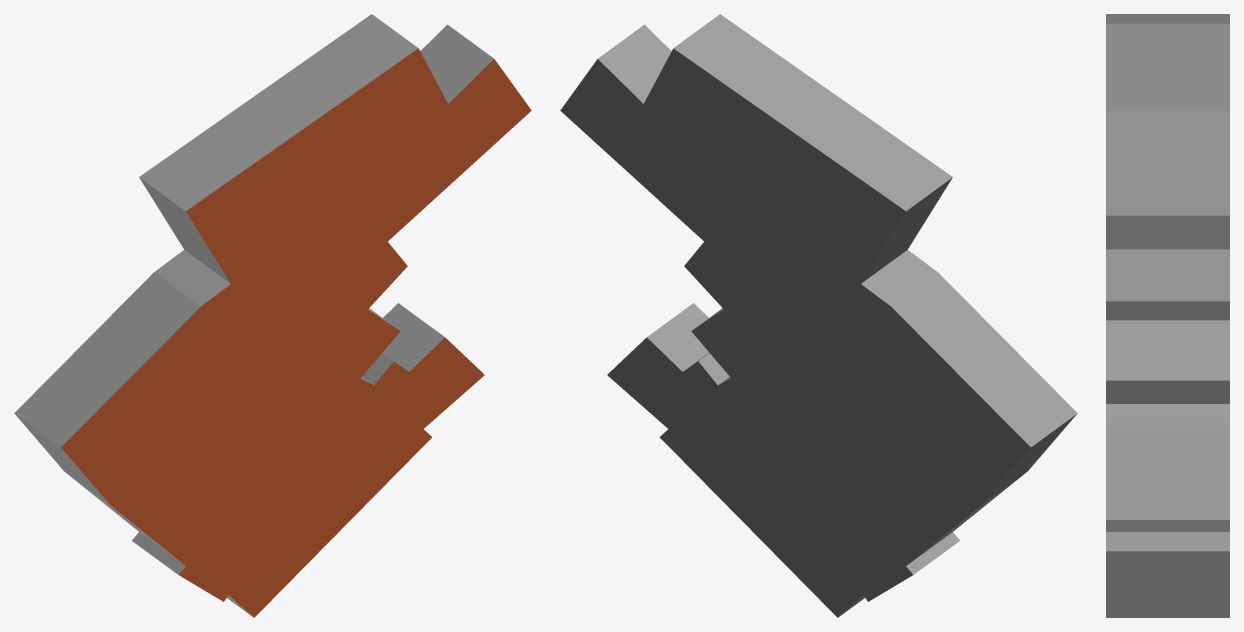
File: construction_4199_assumed_A_Casa_h6m.obj
3 renders of one model, left to right at view 1: azimuth 30°, elevation 25°; view 2: azimuth 150°, elevation 25°; view 3: azimuth 270°, elevation 25°, orthographic. The views are drawn at different scales.
Parts seen in each view (by area): view 1: construction_4199_assumed_A_Casa; view 2: construction_4199_assumed_A_Casa; view 3: construction_4199_assumed_A_Casa.
Boxes of the visible parts, x1,y1,x2,y2 form: construction_4199_assumed_A_Casa: (14, 14, 531, 617); construction_4199_assumed_A_Casa: (560, 14, 1077, 617); construction_4199_assumed_A_Casa: (1106, 14, 1229, 617).
Bounding box in the file's own units: 34.8 × 37.42 × 6.
